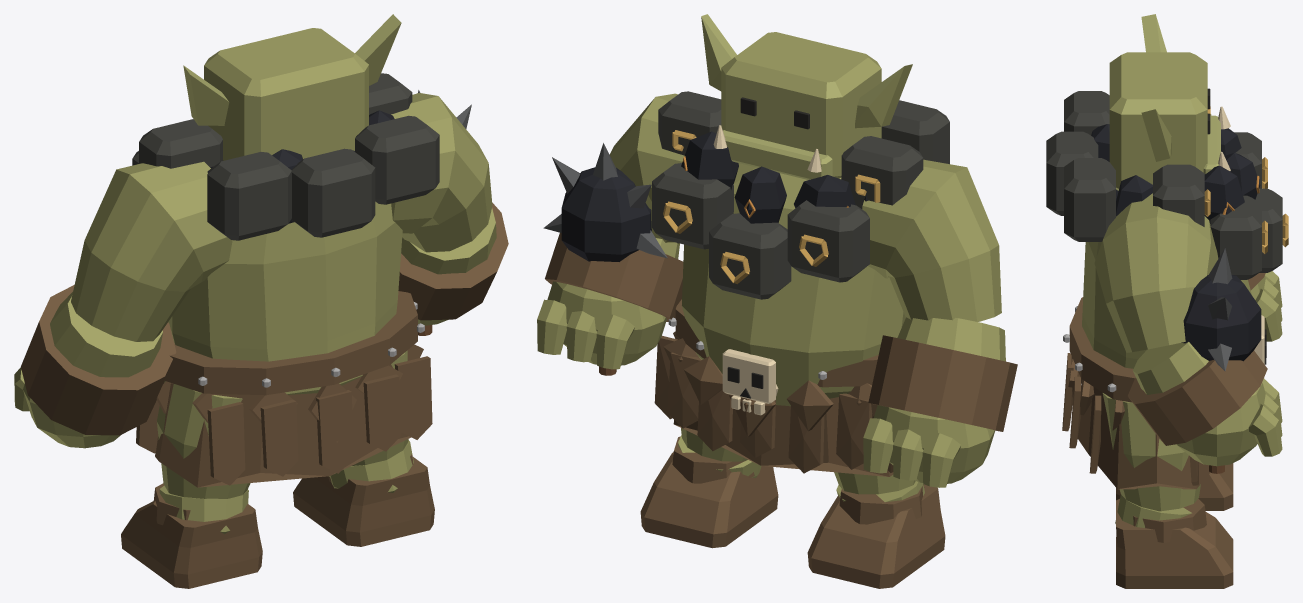
File: host_26.glb
The picture shows the model from 3 angles, left to right: view 1: azimuth 30°, elevation 25°; view 2: azimuth 150°, elevation 25°; view 3: azimuth 270°, elevation 25°; orthographic projection. The views are drawn at different scales.
Visible parts, largest first — view 1: V6 source anatomical thorax, V6 source anatomical upper arm L, Observed face, V6 runebinder actual thick source brown leather forearm wrap (×2), Continuous heavy leather belt, V6 source anatomical upper arm R, Grounded boot L, Grounded boot R, Connected ragged leather battle skirt, Source massive obsidian collar stone.005, Source massive obsidian collar stone.007, Source massive obsidian collar stone.006 (+16 smaller); view 2: V6 source anatomical thorax, V6 source anatomical upper arm L, V6 runebinder actual thick source brown leather forearm wrap (×2), Observed face, Grounded boot L, Grounded boot R, V6 runebinder actual asymmetric spiked iron ball, V6 runebinder contacting irregular obsidian rune collar ston (×3), Source massive obsidian collar stone.004, Source massive obsidian collar stone.002, Source massive obsidian collar stone.003, Source massive obsidian collar stone (+31 smaller); view 3: V6 source anatomical upper arm R, Observed face, Grounded boot R, V6 runebinder actual thick source brown leather forearm wrap, V6 runebinder actual asymmetric spiked iron ball, V6 runebinder contacting irregular obsidian rune collar ston (×5), Connected ragged leather battle skirt, V6 source anatomical thigh R, Source massive obsidian collar stone.006, Source massive obsidian collar stone.003, V6 source anatomical thorax, V6 source anatomical palm R (+22 smaller).
Part boxes in pixels (x1,y1,x2,y2): V6 source anatomical thorax: [168, 201, 402, 394]; V6 source anatomical upper arm L: [71, 161, 232, 341]; Observed face: [204, 28, 368, 160]; V6 runebinder actual thick source brown leather forearm wrap (×2): [21, 203, 508, 435]; Continuous heavy leather belt: [164, 291, 417, 395]; V6 source anatomical upper arm R: [391, 93, 492, 252]; Grounded boot L: [121, 500, 262, 588]; Grounded boot R: [293, 457, 434, 546]; Connected ragged leather battle skirt: [155, 364, 410, 487]; Source massive obsidian collar stone.005: [207, 152, 291, 240]; Source massive obsidian collar stone.007: [291, 148, 375, 237]; Source massive obsidian collar stone.006: [355, 115, 439, 204]; V6 source anatomical thorax: [682, 163, 905, 406]; V6 source anatomical upper arm L: [862, 159, 1001, 321]; V6 runebinder actual thick source brown leather forearm wrap (×2): [545, 233, 1017, 431]; Observed face: [721, 32, 881, 178]; Grounded boot L: [807, 484, 945, 588]; Grounded boot R: [640, 452, 778, 548]; V6 runebinder actual asymmetric spiked iron ball: [561, 167, 651, 261]; V6 runebinder contacting irregular obsidian rune collar ston (×3): [681, 131, 855, 223]; Source massive obsidian collar stone.004: [709, 213, 791, 299]; Source massive obsidian collar stone.002: [787, 200, 869, 282]; Source massive obsidian collar stone.003: [652, 163, 733, 249]; Source massive obsidian collar stone: [841, 136, 923, 208]; V6 source anatomical upper arm R: [1094, 193, 1218, 352]; Observed face: [1109, 52, 1207, 190]; Grounded boot R: [1116, 499, 1233, 588]; V6 runebinder actual thick source brown leather forearm wrap: [1128, 350, 1267, 445]; V6 runebinder actual asymmetric spiked iron ball: [1181, 275, 1261, 361]; V6 runebinder contacting irregular obsidian rune collar ston (×5): [1091, 124, 1260, 223]; Connected ragged leather battle skirt: [1077, 387, 1210, 489]; V6 source anatomical thigh R: [1102, 393, 1200, 511]; Source massive obsidian collar stone.006: [1064, 158, 1115, 241]; Source massive obsidian collar stone.003: [1210, 195, 1261, 279]; V6 source anatomical thorax: [1082, 242, 1251, 368]; V6 source anatomical palm R: [1177, 382, 1265, 466].
Bounding box in the file's own units: 1.8 × 1.89 × 0.887.
